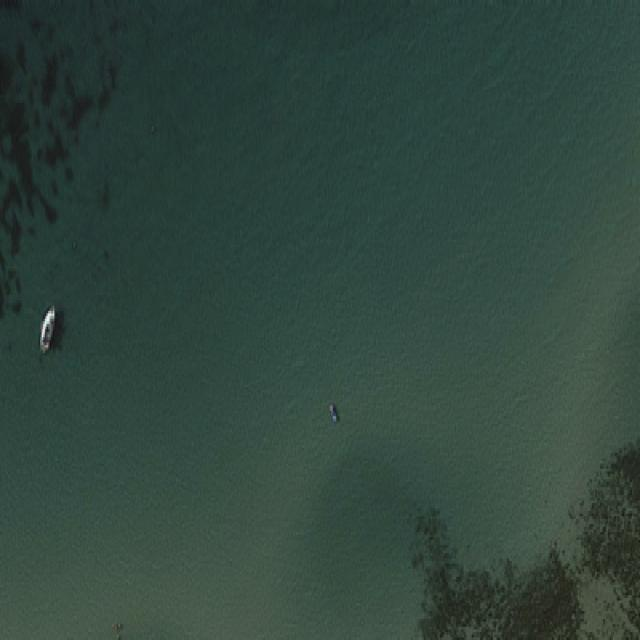boat: (37, 298, 56, 353), (326, 398, 339, 421)
